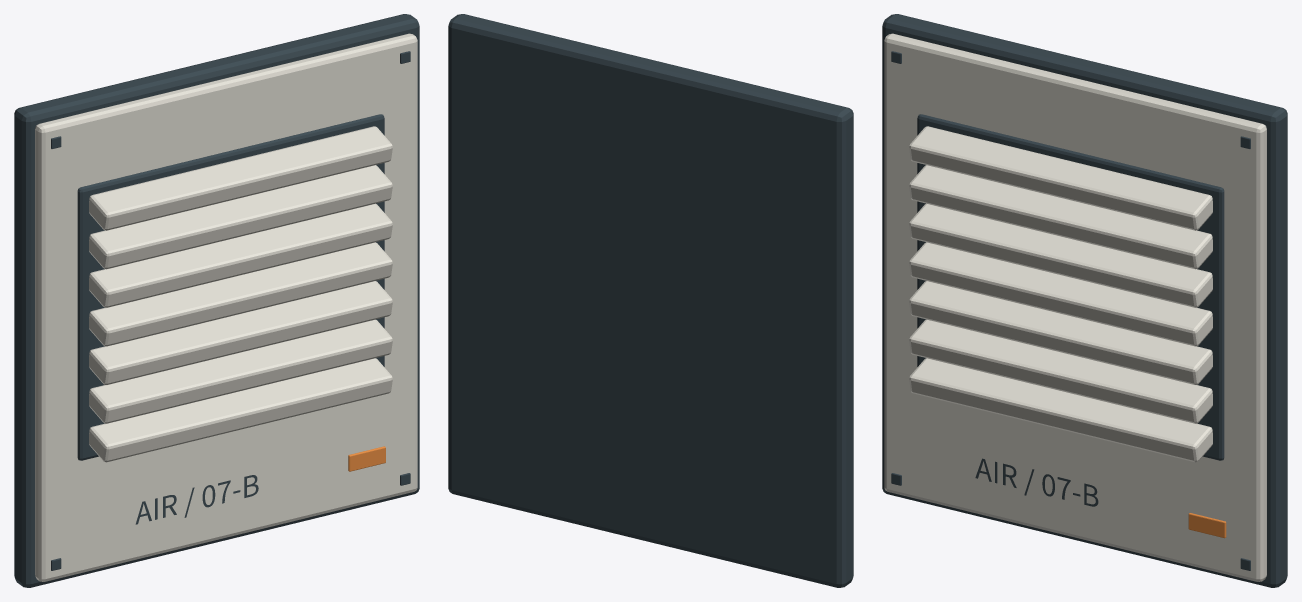
File: WallService.fbx
3 renders of one model, left to right at view 1: azimuth 30°, elevation 25°; view 2: azimuth 150°, elevation 25°; view 3: azimuth 330°, elevation 25°, orthographic.
Visible parts, largest first — view 1: WallService_SC_Concrete, WallService_SC_Metal, WallService_SC_Orange; view 2: WallService_SC_Metal; view 3: WallService_SC_Concrete, WallService_SC_Metal, WallService_SC_Orange.
Boxes of the visible parts, bbox=[...] form: WallService_SC_Concrete: bbox=[35, 33, 417, 581]; WallService_SC_Metal: bbox=[14, 14, 419, 587]; WallService_SC_Orange: bbox=[348, 446, 385, 471]; WallService_SC_Metal: bbox=[448, 14, 853, 587]; WallService_SC_Concrete: bbox=[884, 33, 1266, 581]; WallService_SC_Metal: bbox=[882, 14, 1287, 587]; WallService_SC_Orange: bbox=[1188, 513, 1226, 538].
Bounding box in the file's own units: 1.4 × 1.6 × 0.245.
